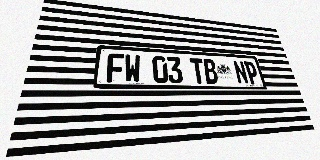0: (152, 56, 168, 83)
3: (167, 57, 183, 83)
B: (202, 59, 219, 84)
F: (106, 53, 124, 83)
N: (232, 60, 249, 84)
P: (243, 61, 260, 84)
T: (189, 58, 206, 84)
W: (124, 54, 141, 83)
